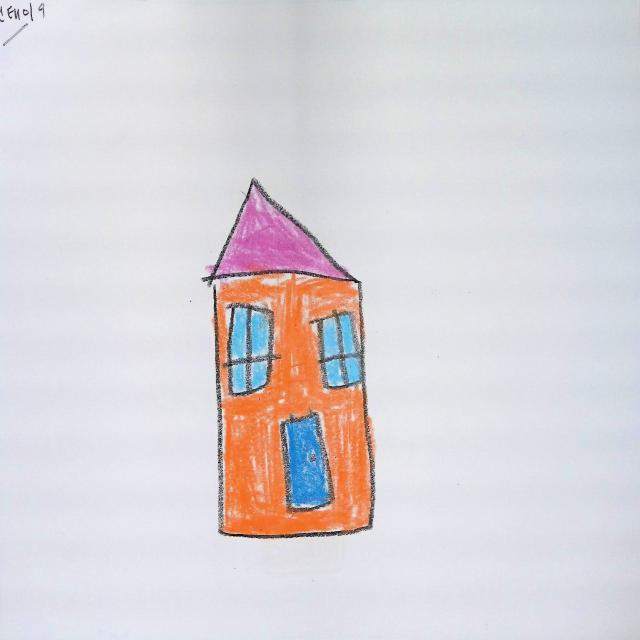door: (282, 414, 333, 510)
house: (205, 180, 374, 538)
roof: (205, 179, 358, 284)
wall: (212, 275, 372, 533)
window: (229, 306, 272, 395), (319, 313, 363, 388)
